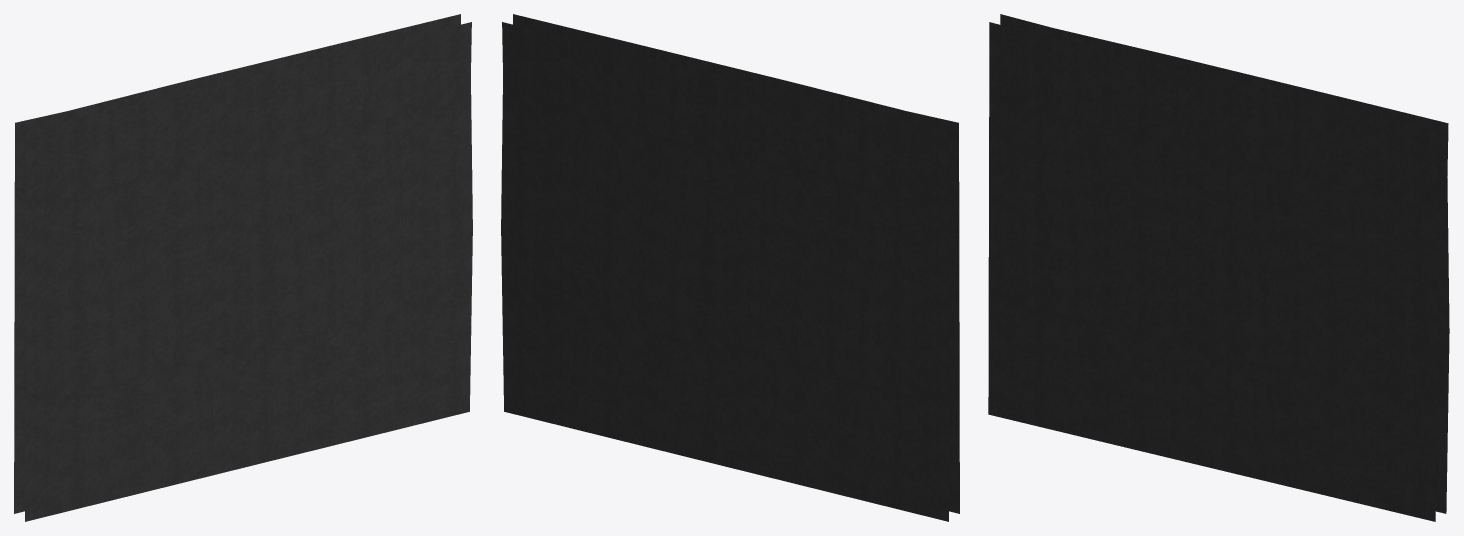
Rendered from floor_14.obj.
3 renders of one model, left to right at view 1: azimuth 30°, elevation 25°; view 2: azimuth 150°, elevation 25°; view 3: azimuth 330°, elevation 25°, orthographic.
Parts seen in each view (by area): view 1: floor_14; view 2: floor_14; view 3: floor_14.
Part boxes in pixels (<box>): floor_14: <box>14,14,472,521</box>; floor_14: <box>501,14,959,521</box>; floor_14: <box>988,14,1449,521</box>.
Size of the model in its own units: 2.38 by 1.98 by 0.1.
1 material, 1 textured.
